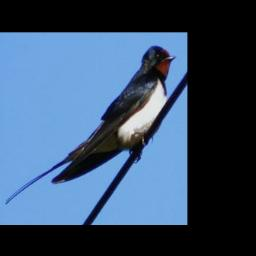Swallow: (2, 44, 177, 206)
